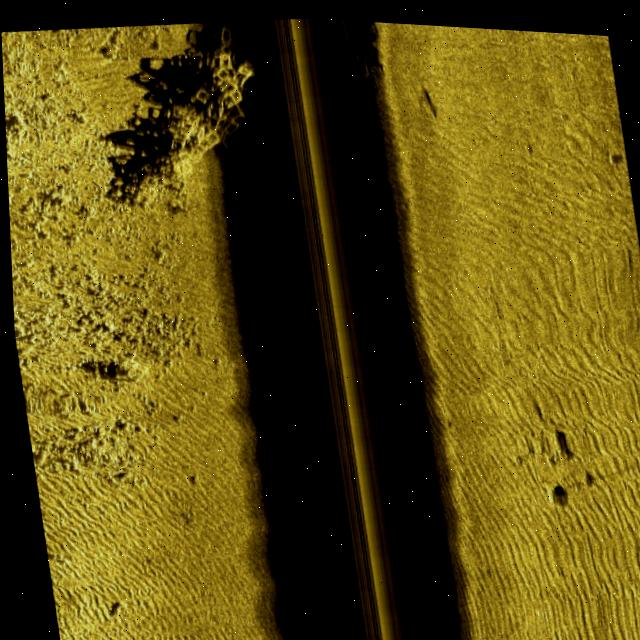artificial reef: (106, 11, 267, 211), (326, 15, 383, 87)
